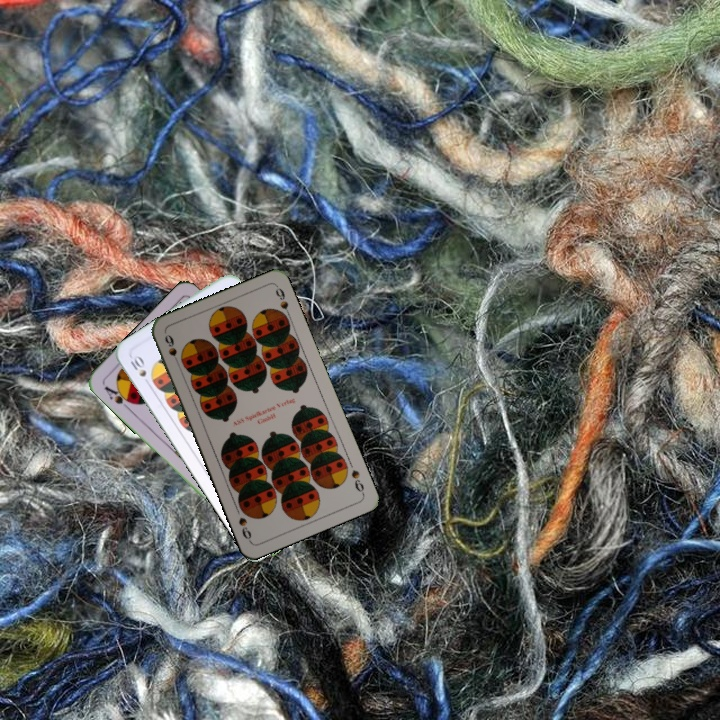S10: (126, 351, 153, 389)
S9: (161, 330, 182, 369), (347, 466, 367, 497)
SA: (100, 382, 136, 412)
